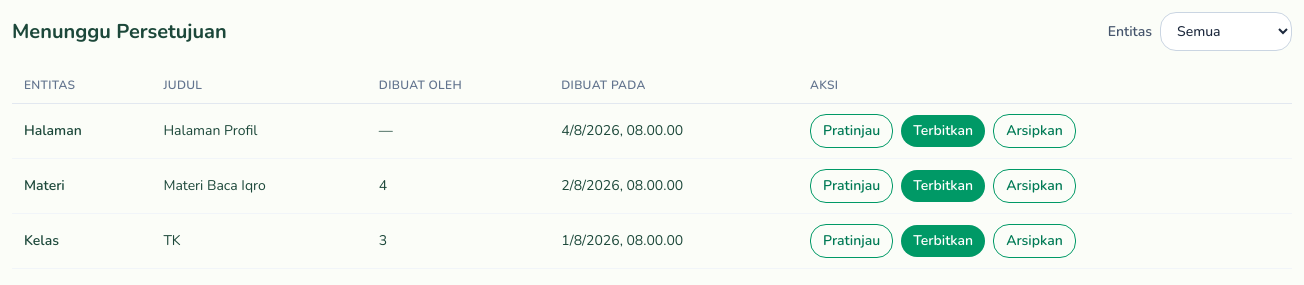
Scenario: Persetujuan approval queue › filters the queue by entity via the select
Expected: the text "TK" is shown, [151,214,367,268]
Step 1. Select "Kelas" in the dropdown labelled "Entitas" → (1226, 32), box [1160,12,1292,51]
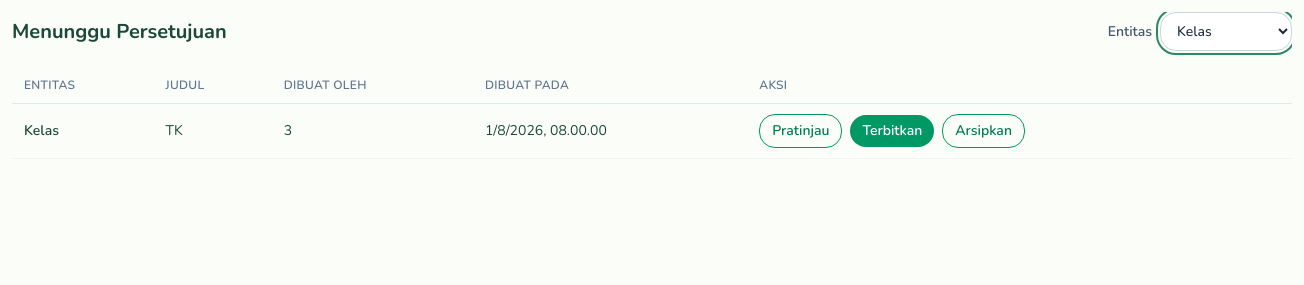
Expected: the text "TK" is shown, [154,104,272,158]
Now the text "Materi Baca Iqro" is gone
Now the text "Halaman Profil" is gone
